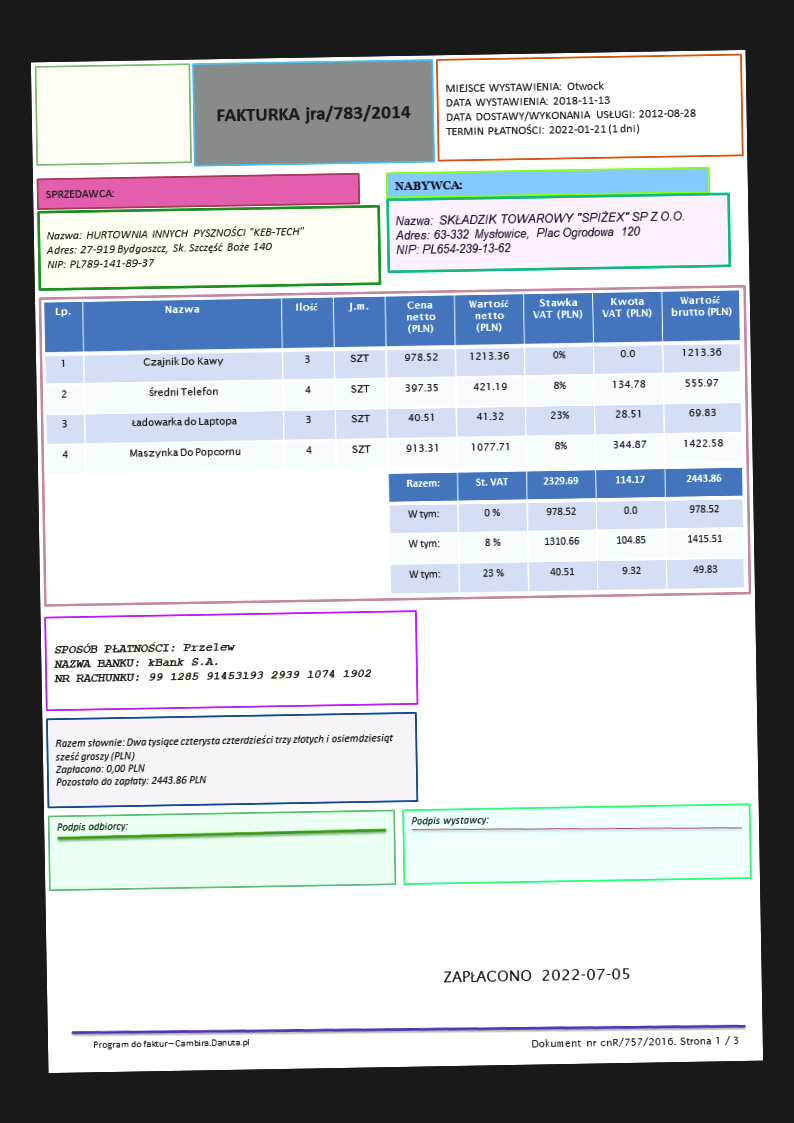Table: (42, 288, 743, 475), (387, 465, 744, 594)
TextBox: (53, 729, 396, 790), (53, 634, 373, 688), (443, 75, 700, 140), (392, 206, 686, 260), (44, 222, 306, 275), (213, 101, 414, 126), (440, 963, 630, 986), (529, 1032, 741, 1051), (90, 1033, 252, 1052), (408, 811, 490, 830), (41, 184, 115, 203), (55, 817, 129, 835), (391, 176, 464, 194)
